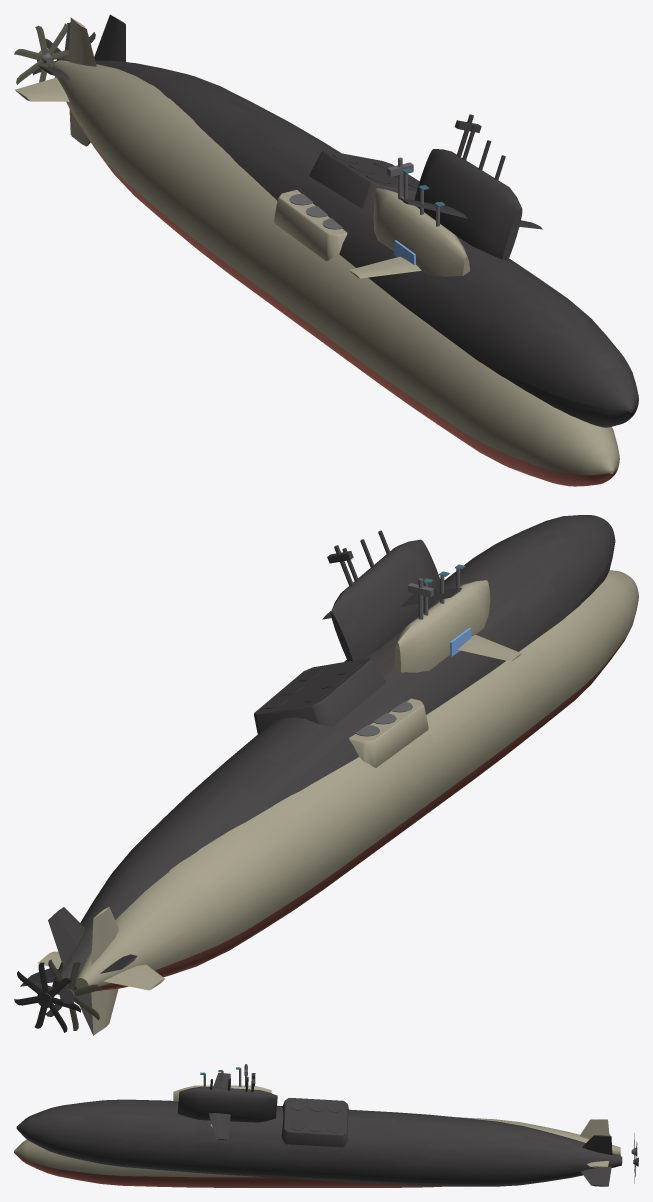
The model's file is submarine__dosan_ahn_changho_class.glb.
3 renders of one model, top to bottom at view 1: azimuth 30°, elevation 25°; view 2: azimuth 150°, elevation 25°; view 3: azimuth 270°, elevation 25°, orthographic. The views are drawn at different scales.
Visible parts, largest first — view 1: Hull_Mesh, Wreck; view 2: Hull_Mesh, Wreck; view 3: Wreck, Hull_Mesh.
Boxes of the visible parts, <box> form: Hull_Mesh: <box>14,17,619,486</box>; Wreck: <box>32,14,638,427</box>; Hull_Mesh: <box>35,564,638,1034</box>; Wreck: <box>14,515,615,1035</box>; Wreck: <box>16,1073,638,1186</box>; Hull_Mesh: <box>14,1067,637,1187</box>.
Size of what is drawn, in the model's own units: 15.66 by 19.11 by 82.58.
